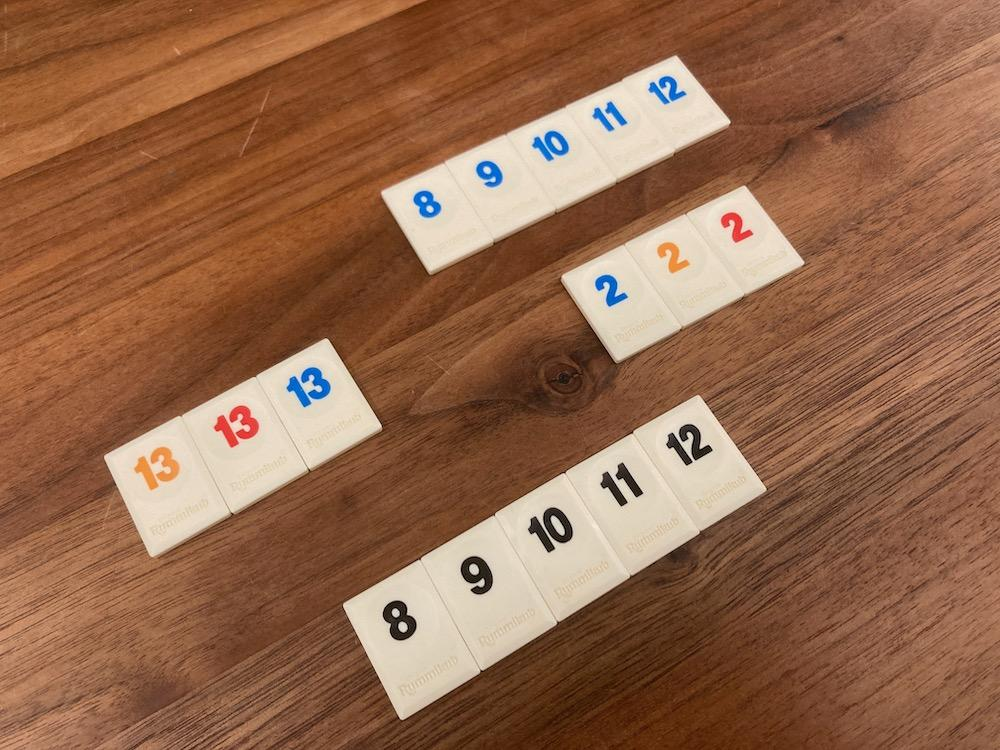black_10: (496, 475, 629, 621)
black_11: (566, 436, 699, 574)
black_12: (635, 396, 766, 529)
black_8: (344, 561, 479, 719)
black_9: (423, 518, 557, 670)
blue_10: (508, 109, 615, 211)
blue_11: (566, 84, 674, 180)
blue_12: (624, 57, 730, 150)
blue_13: (256, 340, 381, 469)
blue_2: (561, 246, 682, 363)
blue_8: (381, 164, 494, 273)
blue_9: (447, 137, 555, 242)
orange_13: (107, 416, 230, 557)
orange_2: (627, 215, 744, 326)
red_13: (184, 379, 307, 512)
red_2: (688, 186, 803, 293)
